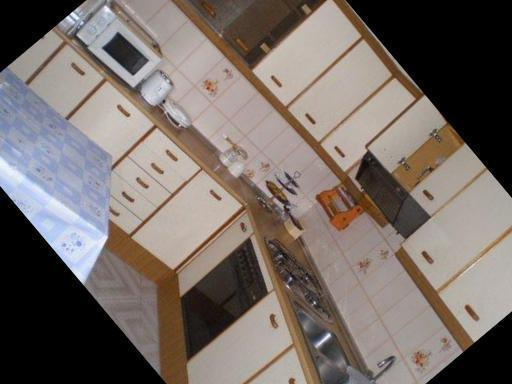Electrodomestico: (150, 214, 319, 377), (68, 0, 168, 95), (128, 54, 198, 122), (144, 78, 204, 139)
Lavaplatos: (250, 257, 417, 384)
